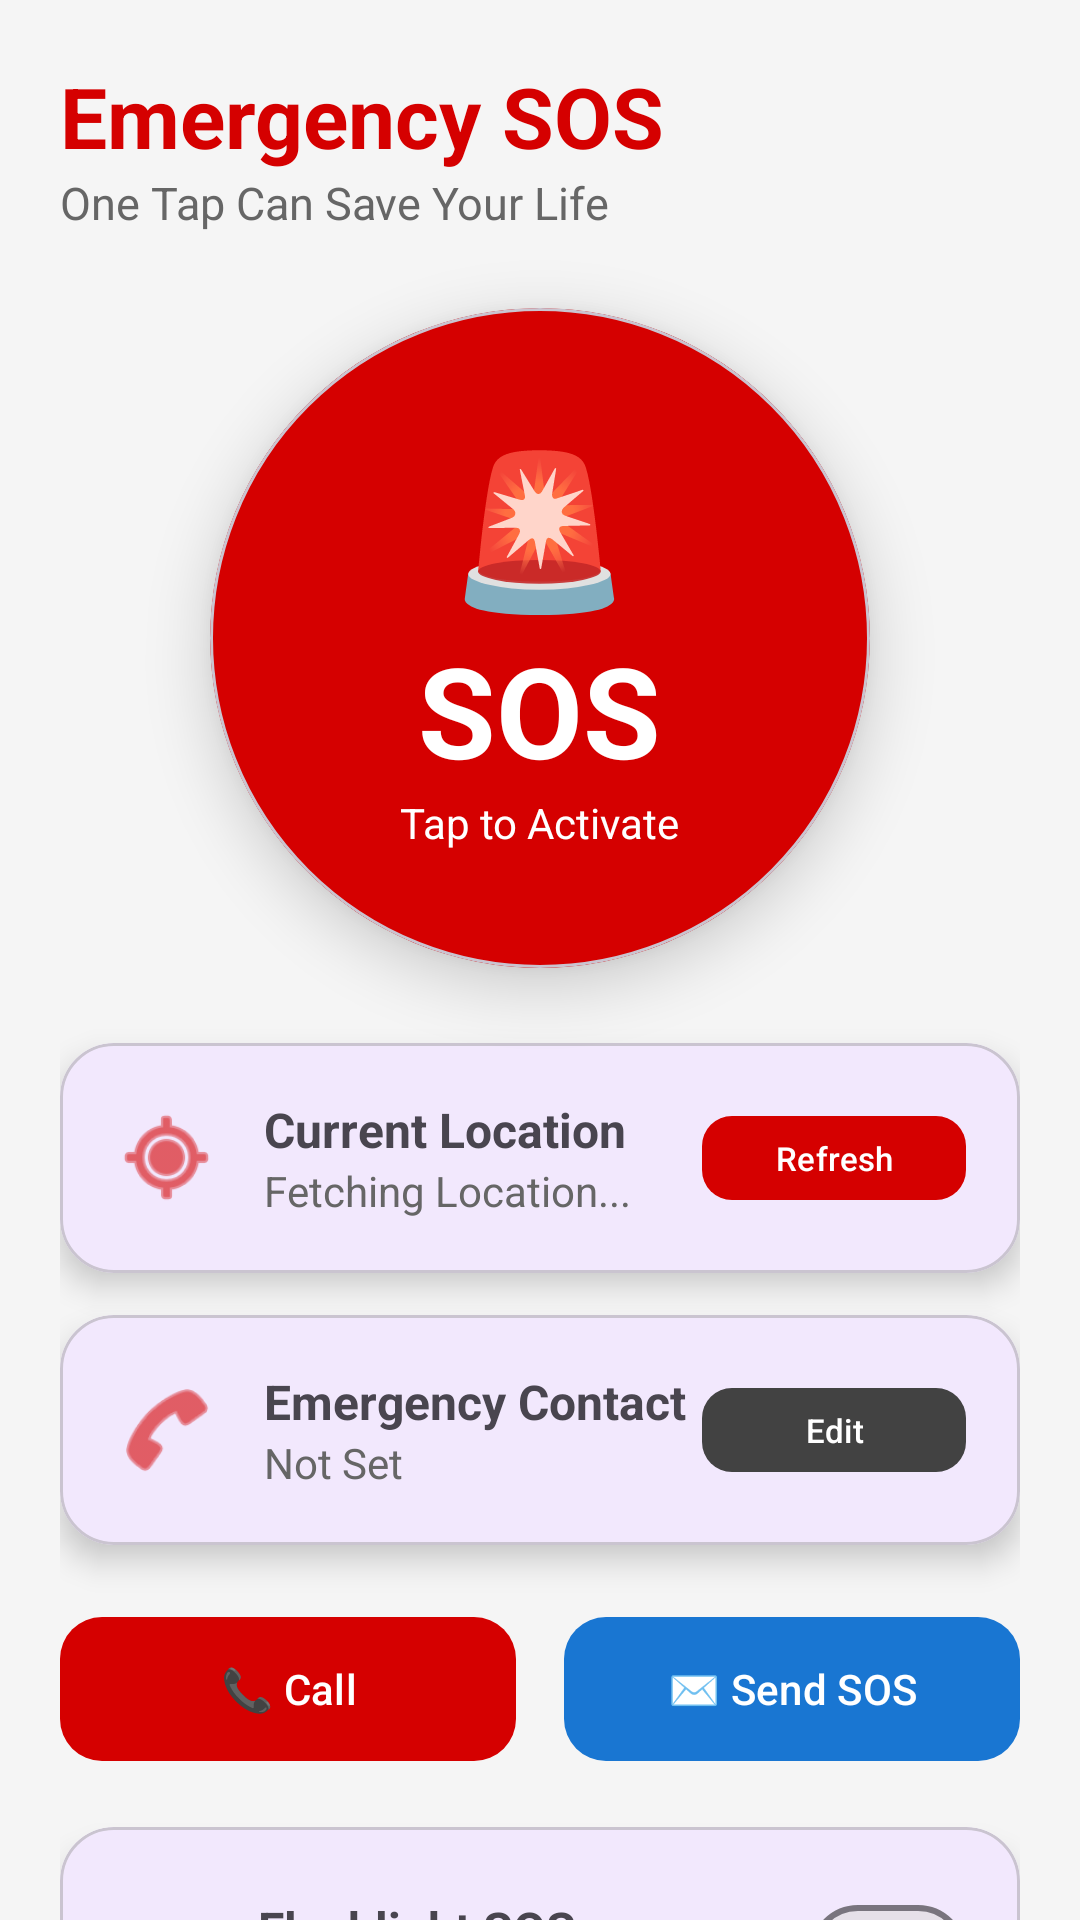

Where to tap for icons on this 1080w x 1920h app screen, as (x=x, y=y):
mylocation: (x=166, y=1157)
